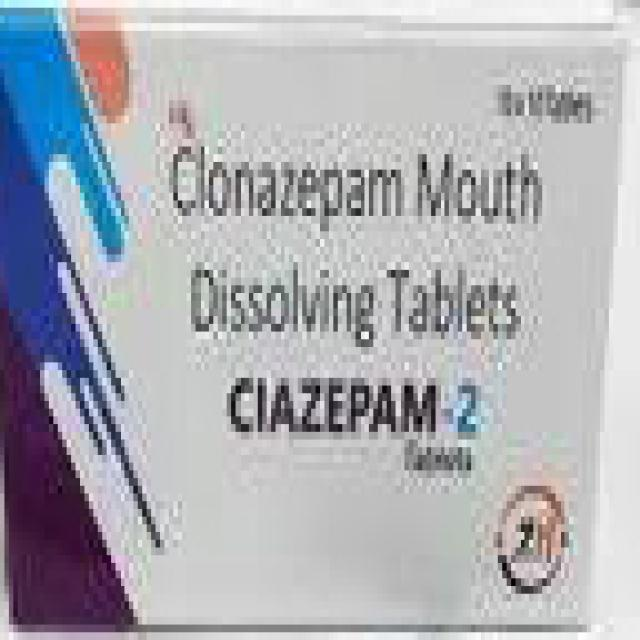drug-name: (218, 375, 484, 446)
